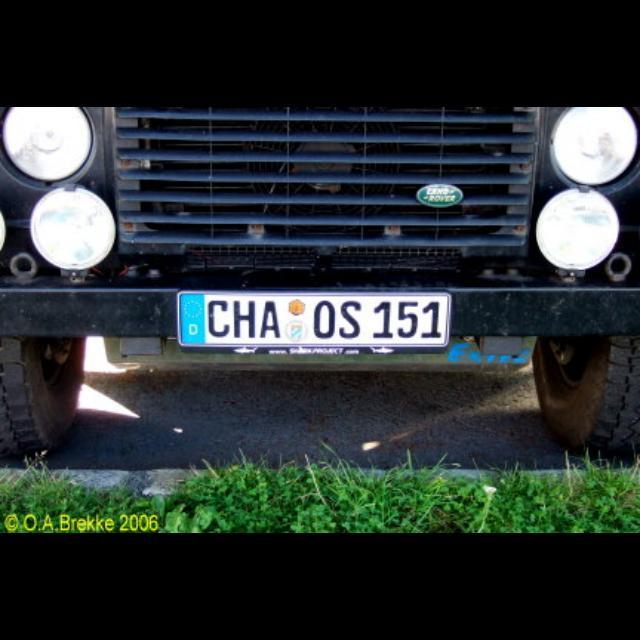d_license_plate: (177, 291, 449, 347)
